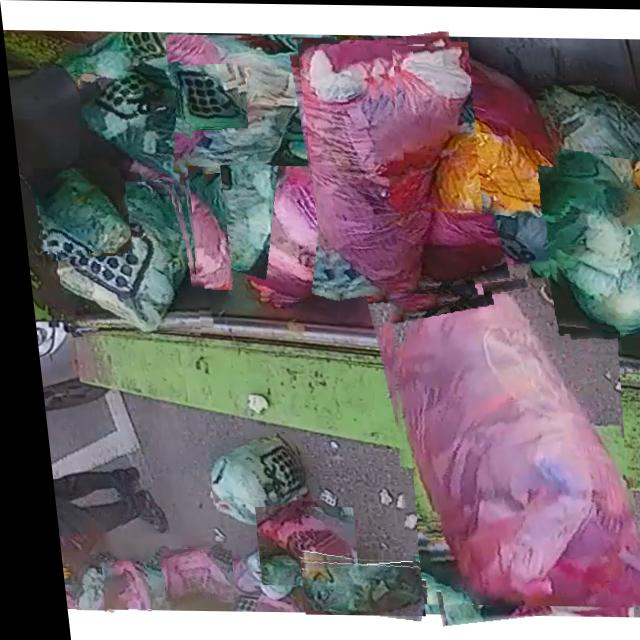general_trashbag: (53, 182, 186, 332), (180, 39, 337, 166), (548, 158, 640, 331), (79, 74, 179, 182), (538, 84, 640, 181), (196, 154, 267, 289), (199, 434, 293, 523), (33, 173, 124, 252), (289, 559, 408, 610), (169, 65, 240, 122), (62, 559, 104, 610), (127, 549, 165, 597)
other_trashbag: (383, 278, 633, 604), (299, 43, 443, 291), (391, 46, 554, 211), (224, 166, 334, 298), (245, 507, 344, 584), (148, 549, 222, 597), (90, 562, 136, 610)
